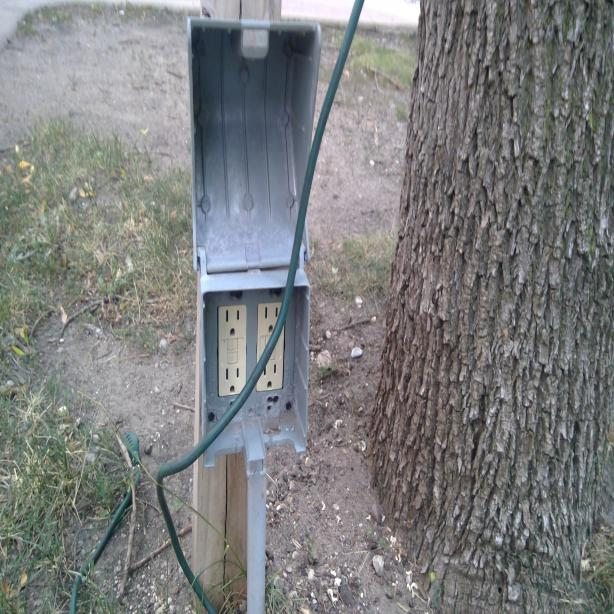typeb: (223, 306, 246, 341), (222, 362, 243, 397), (260, 302, 280, 332), (263, 360, 280, 393)
